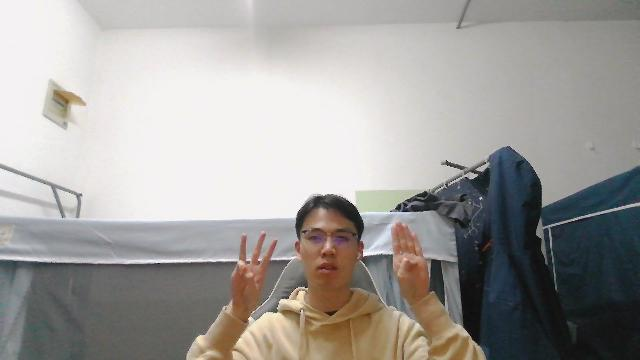four: (389, 218, 433, 299)
three: (231, 229, 278, 303)
